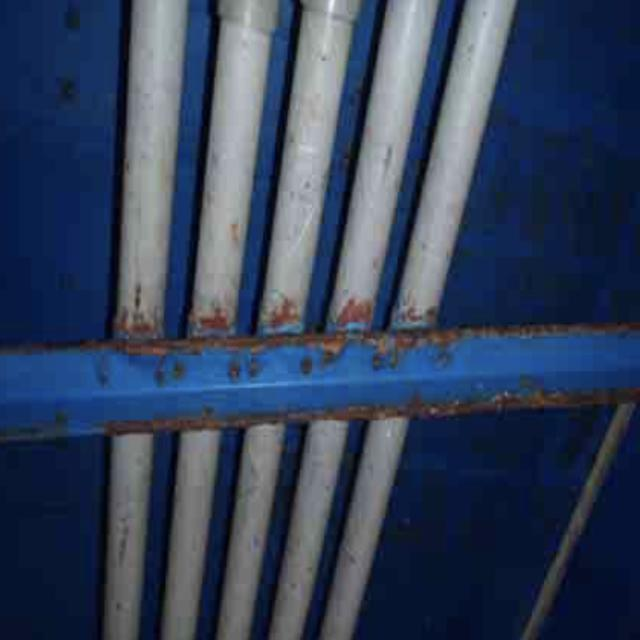corrosion: (17, 313, 633, 444)
